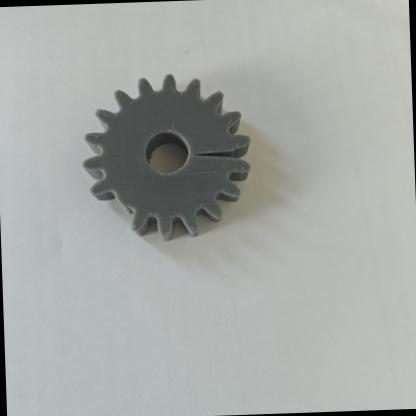defect: (186, 128, 280, 194), (84, 172, 152, 238)
gear: (66, 62, 282, 259)
